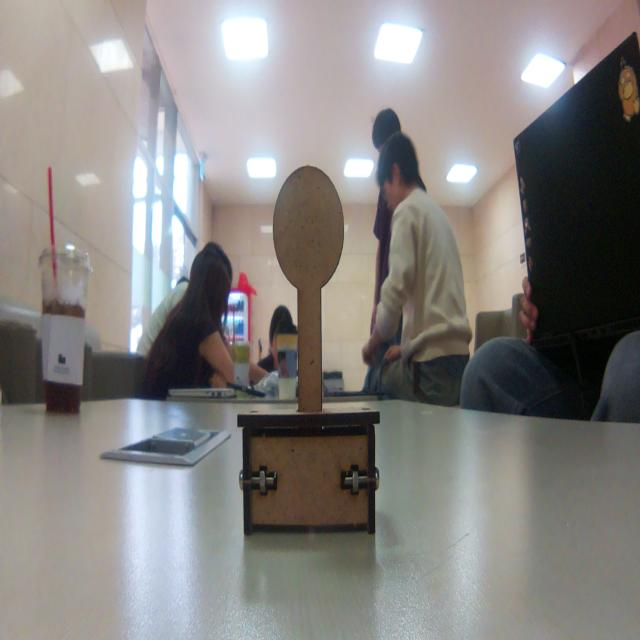target: (238, 164, 380, 538)
